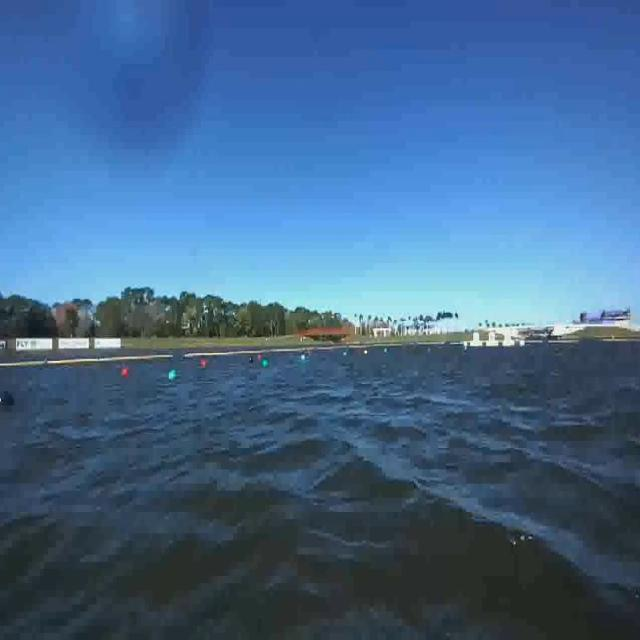black-buoy: (0, 379, 19, 418)
green-buoy: (169, 368, 178, 379)
red-buoy: (122, 364, 132, 382)
